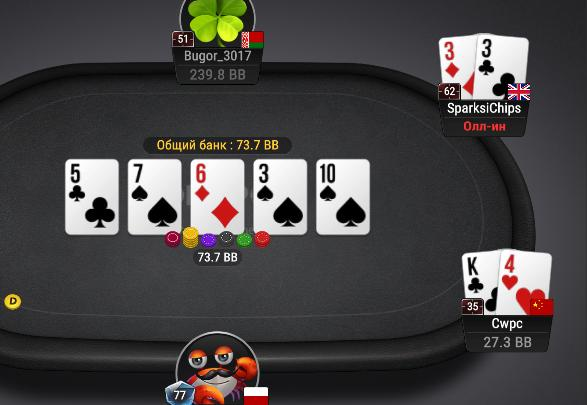10s: (316, 160, 369, 234)
3c: (476, 32, 529, 99)
3d: (438, 36, 475, 99)
3s: (254, 158, 307, 234)
4h: (499, 249, 549, 316)
5c: (66, 159, 118, 234)
6d: (191, 160, 242, 232)
7s: (128, 160, 181, 232)
Kc: (461, 253, 499, 313)
